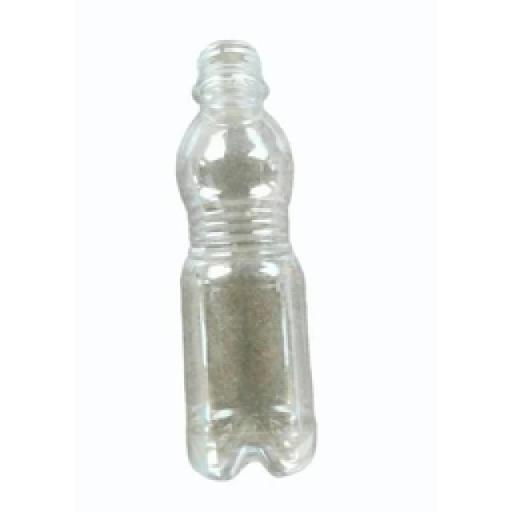plastic: (174, 38, 316, 480)
